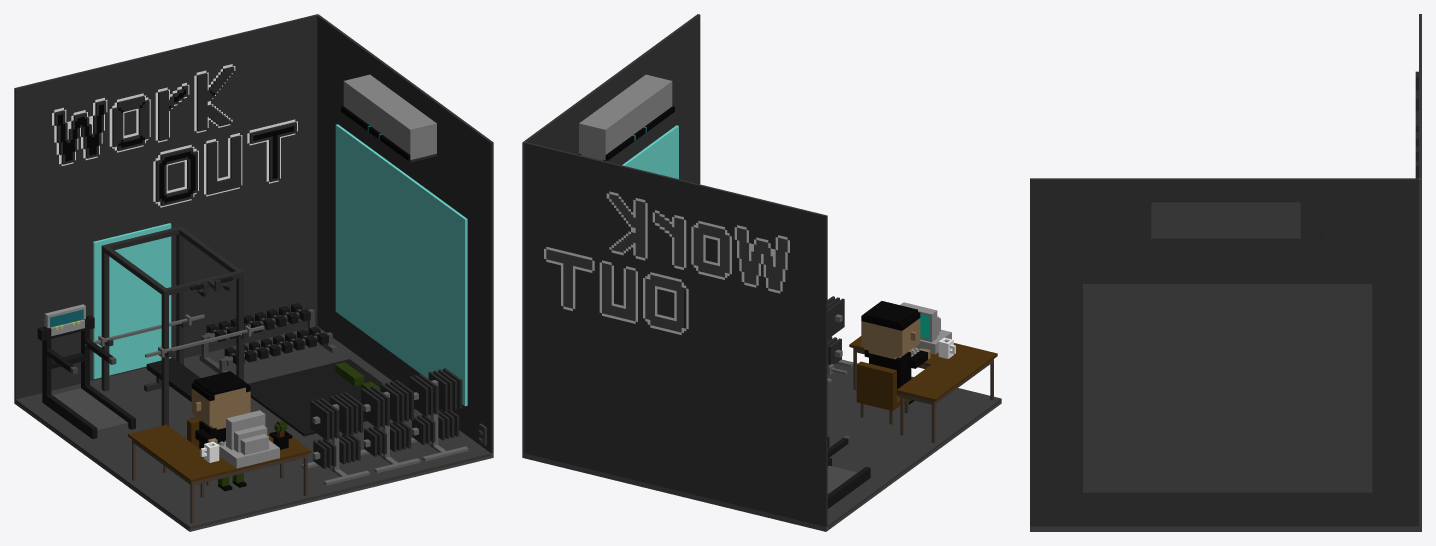
File: nomu-room.obj
The picture shows the model from 3 angles, left to right: view 1: azimuth 30°, elevation 25°; view 2: azimuth 150°, elevation 25°; view 3: azimuth 270°, elevation 25°; orthographic projection. The views are drawn at different scales.
Size of the model in its own units: 12.6 by 12.6 by 12.6.
